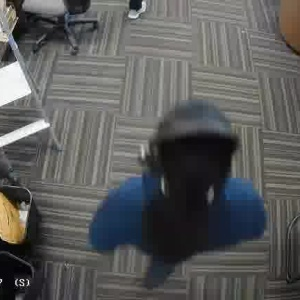person: (110, 98, 246, 280)
